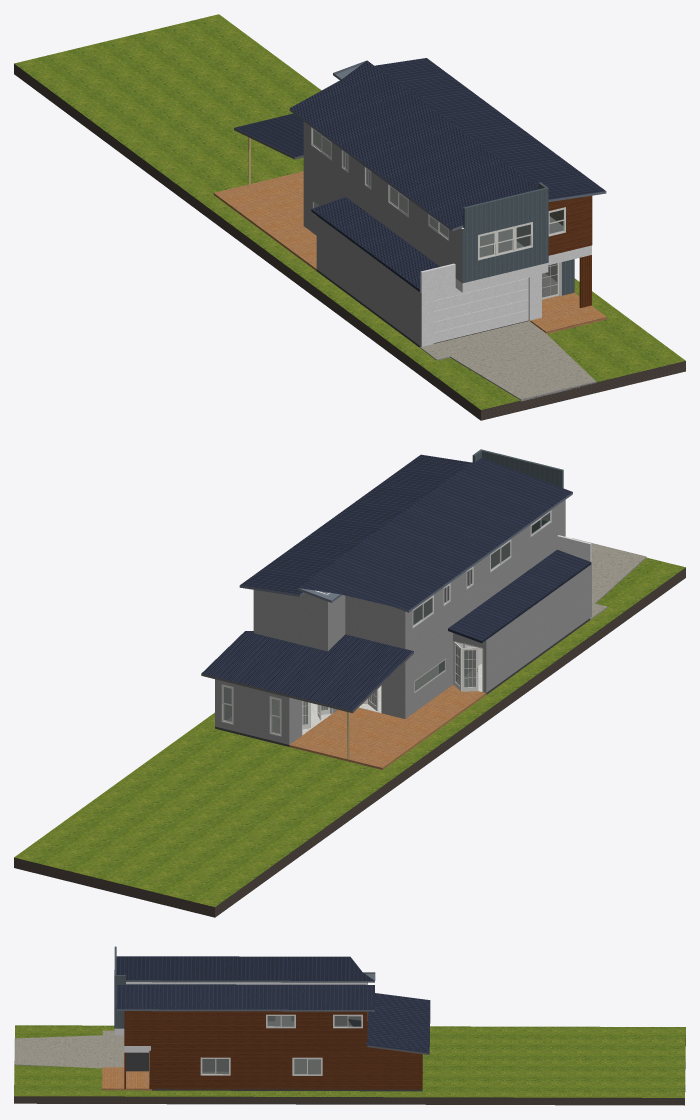
The picture shows the model from 3 angles, top to bottom: view 1: azimuth 30°, elevation 25°; view 2: azimuth 150°, elevation 25°; view 3: azimuth 270°, elevation 25°; orthographic projection. The views are drawn at different scales.
Visible parts, largest first — view 1: Misc Grass, Roof Blue 2, Timber Weatherboards, Horizontal_Timber Weatherboards, Horiz, Misc Earth, Concrete Driveway, Floor Tiles B Matt Finish, Roof Sheet Custom Orb, white plaster, Stucco - White 21, Paint Wall, Glass Clear, Pat (+3 smaller); view 2: Misc Grass, Roof Blue 2, Timber Weatherboards, Horizontal_Timber Weatherboards, Horiz, Misc Earth, Floor Tiles B Matt Finish, Paint Wall, Glass Clear, Concrete Driveway, Timber Deck, Roof Sheet Custom Orb, CB Deep Ocean D D, Simple Surface; view 3: Misc Grass, Pat, Roof Blue 2, Misc Earth, Concrete Driveway, Paint Wall, Glass Clear, CB Deep Ocean D D, Stucco - White 21, Blockwork Rendered, Floor Tiles B Matt Finish, Roof Sheet Custom Orb (+1 smaller).
Boxes of the visible parts, box(x1,y1,x2,y2) form: Misc Grass: box(14, 14, 685, 409); Roof Blue 2: box(234, 58, 605, 291); Timber Weatherboards, Horizontal_Timber Weatherboards, Horiz: box(303, 121, 462, 346); Misc Earth: box(14, 64, 685, 420); Concrete Driveway: box(420, 321, 595, 399); Floor Tiles B Matt Finish: box(214, 171, 606, 331); Roof Sheet Custom Orb: box(462, 182, 574, 295); white plaster: box(432, 276, 530, 343); Stucco - White 21: box(420, 217, 591, 346); Paint Wall: box(313, 130, 565, 299); Glass Clear: box(313, 129, 563, 257); Pat: box(548, 195, 592, 255); Misc Grass: box(14, 557, 685, 906); Roof Blue 2: box(201, 454, 591, 710); Timber Weatherboards, Horizontal_Timber Weatherboards, Horiz: box(215, 500, 591, 744); Misc Earth: box(14, 567, 685, 917); Floor Tiles B Matt Finish: box(289, 685, 485, 767); Paint Wall: box(221, 513, 548, 736); Glass Clear: box(224, 512, 549, 733); Concrete Driveway: box(573, 538, 646, 618); Timber Deck: box(227, 663, 482, 734); Roof Sheet Custom Orb: box(472, 449, 563, 532); CB Deep Ocean D D: box(239, 492, 572, 612); Simple Surface: box(412, 510, 551, 680); Misc Grass: box(14, 1025, 685, 1097); Pat: box(124, 1011, 422, 1089); Roof Blue 2: box(116, 956, 430, 1053); Misc Earth: box(14, 1039, 685, 1105); Concrete Driveway: box(14, 1030, 124, 1068); Paint Wall: box(149, 1014, 362, 1083); Glass Clear: box(202, 1016, 361, 1074); CB Deep Ocean D D: box(116, 972, 375, 1011); Stucco - White 21: box(114, 982, 367, 1052); Blockwork Rendered: box(126, 1052, 422, 1091); Floor Tiles B Matt Finish: box(102, 1067, 149, 1088); Roof Sheet Custom Orb: box(114, 946, 125, 1028).
Size of the model in its own units: 5.68 by 3.83 by 22.22.
32 materials, 21 textured.
